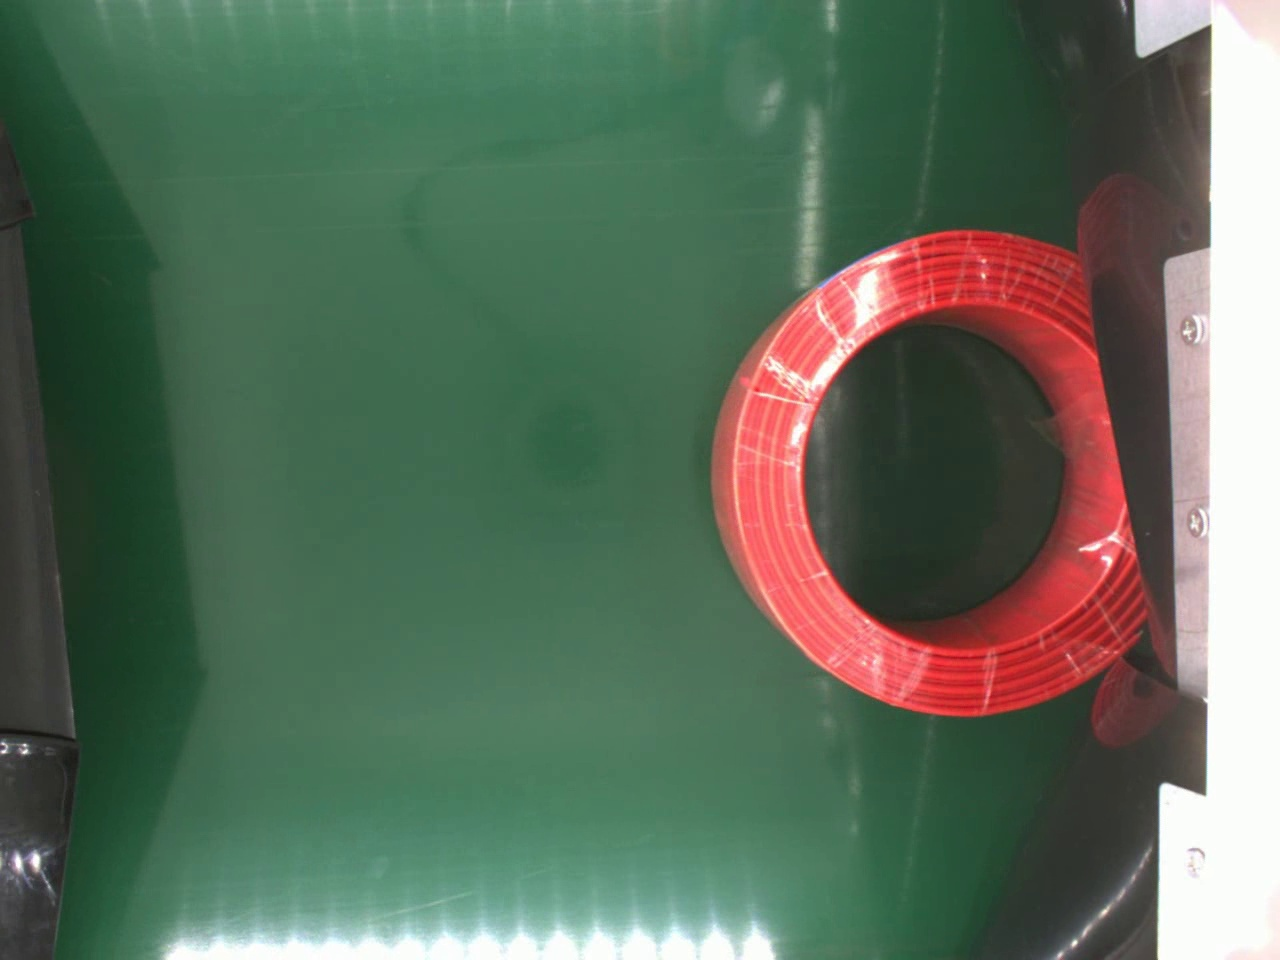red: (709, 229, 1152, 722)
